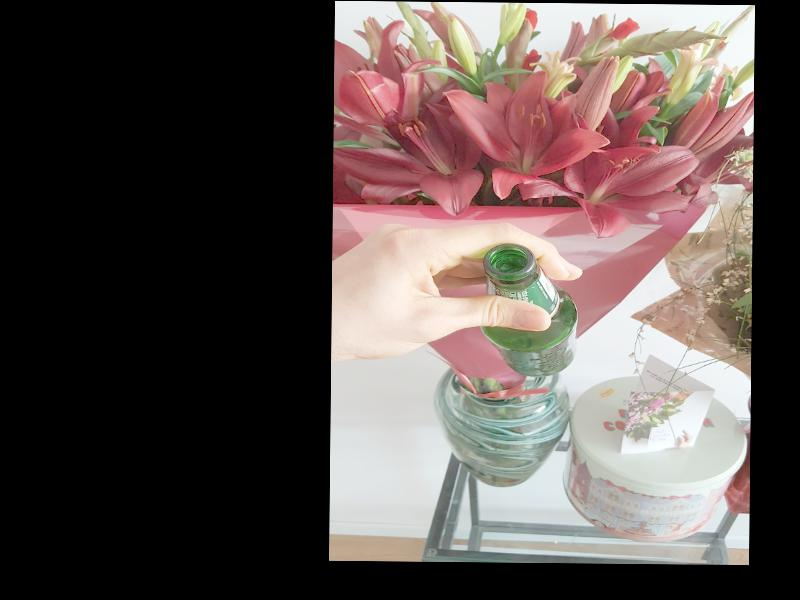Beer: (478, 243, 578, 377)
